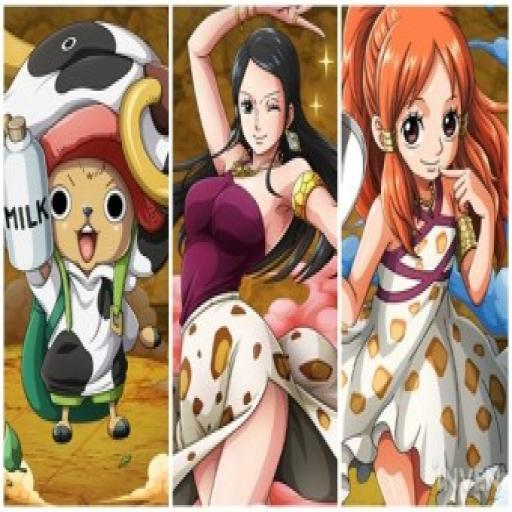Nami: (346, 16, 485, 207)
NicoRobin: (218, 24, 316, 170)
